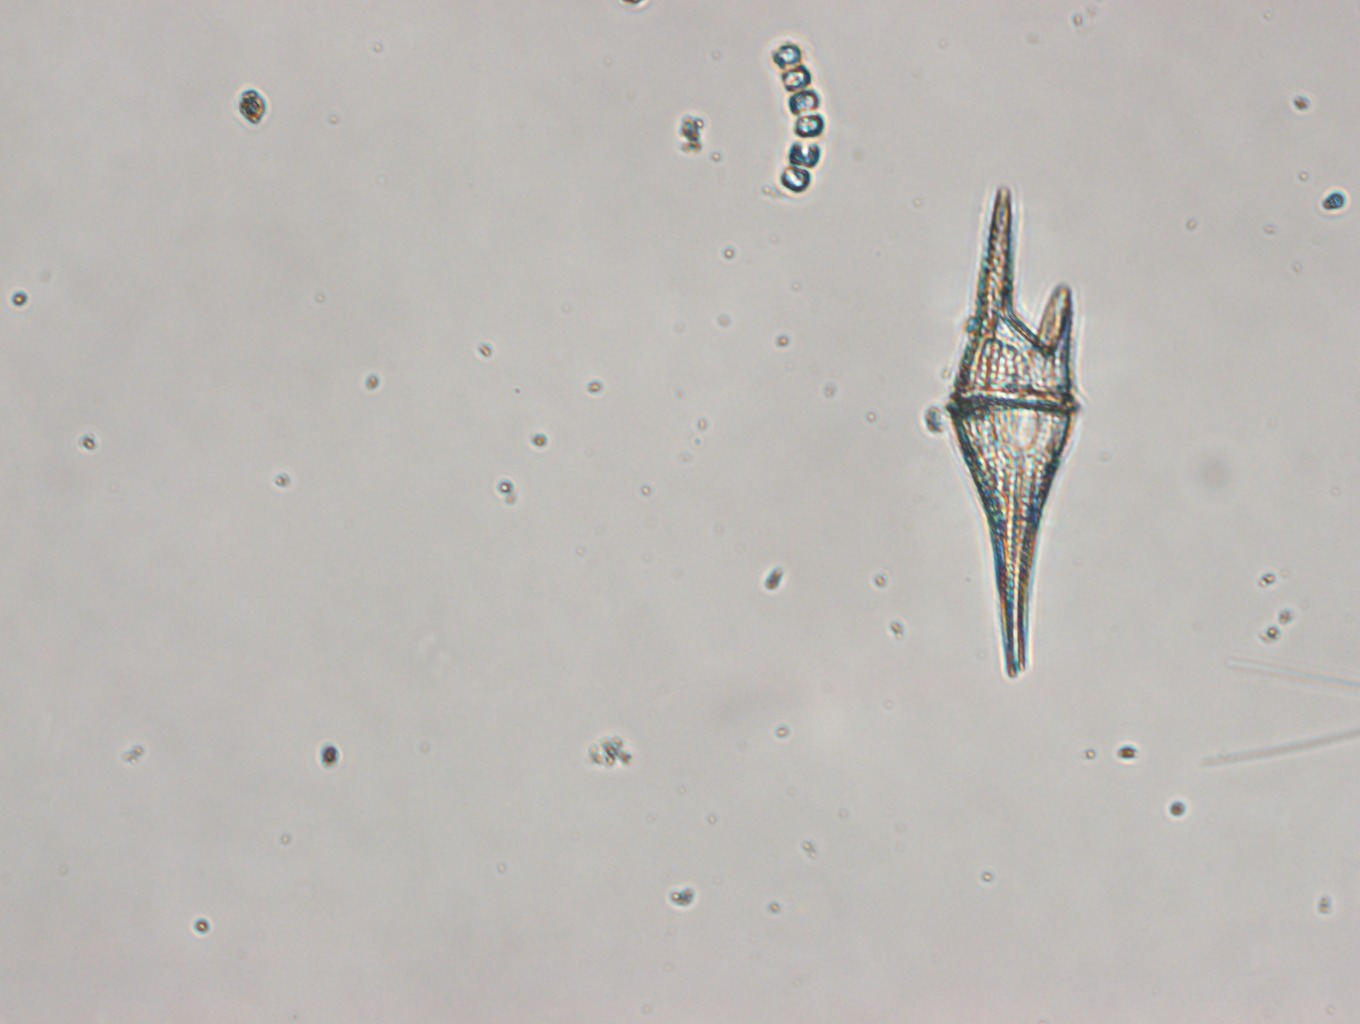ceratium furca: (942, 189, 1080, 677)
skeletonema: (769, 39, 826, 193)
